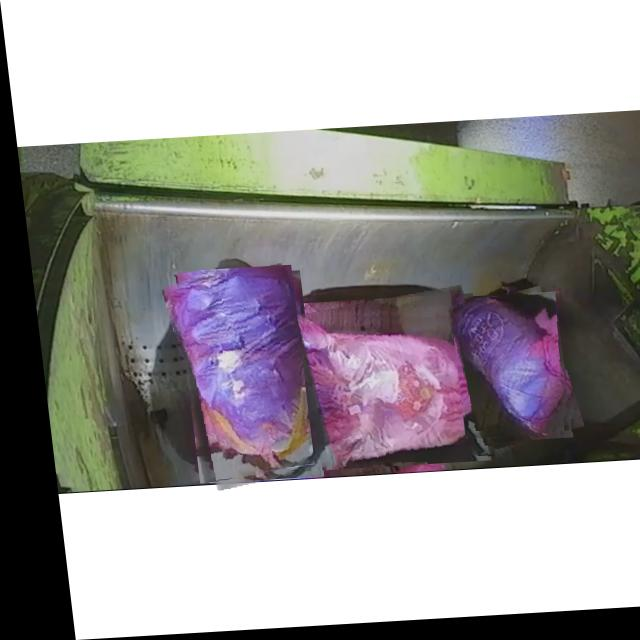other_trashbag: (285, 319, 480, 472), (158, 269, 300, 475), (444, 304, 558, 440)
